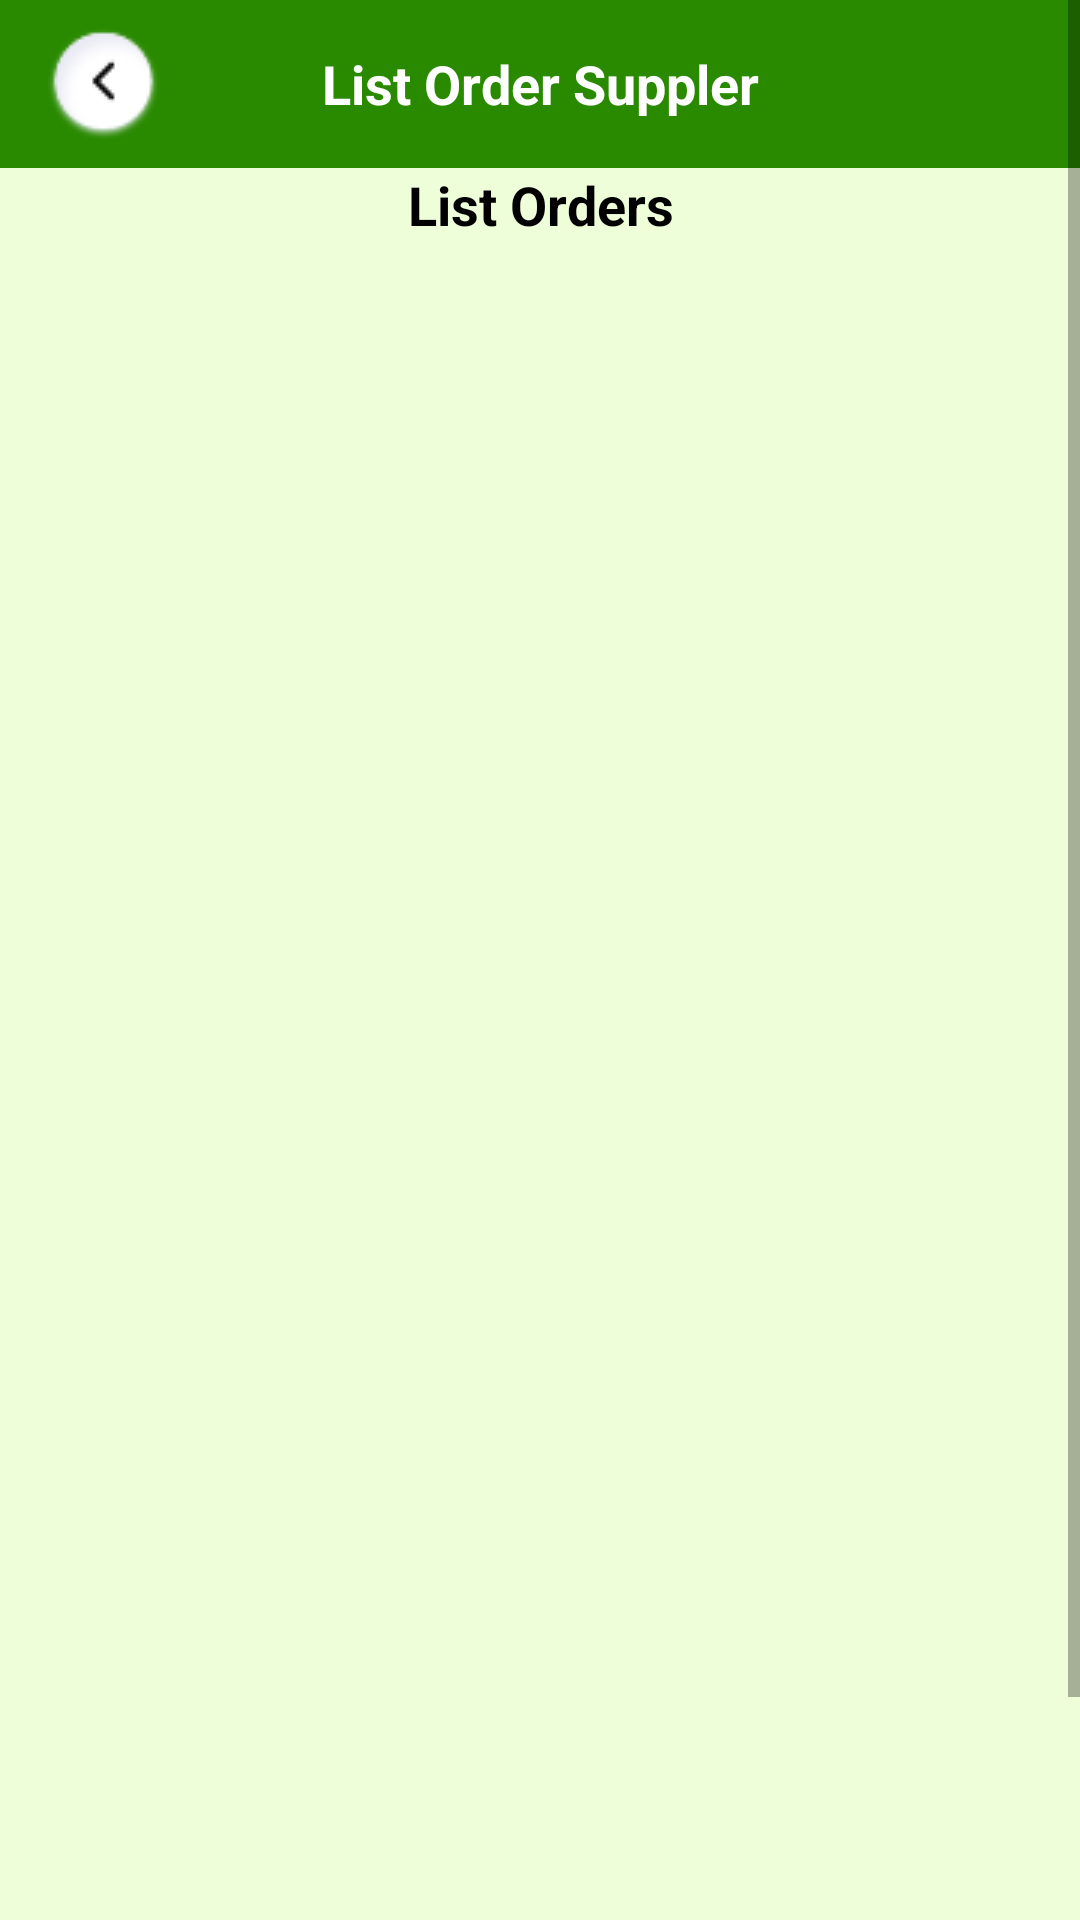

Point at icon controls on the screen. Image size 1080 × 1920, points as point (x, y).
back: point (103, 84)
